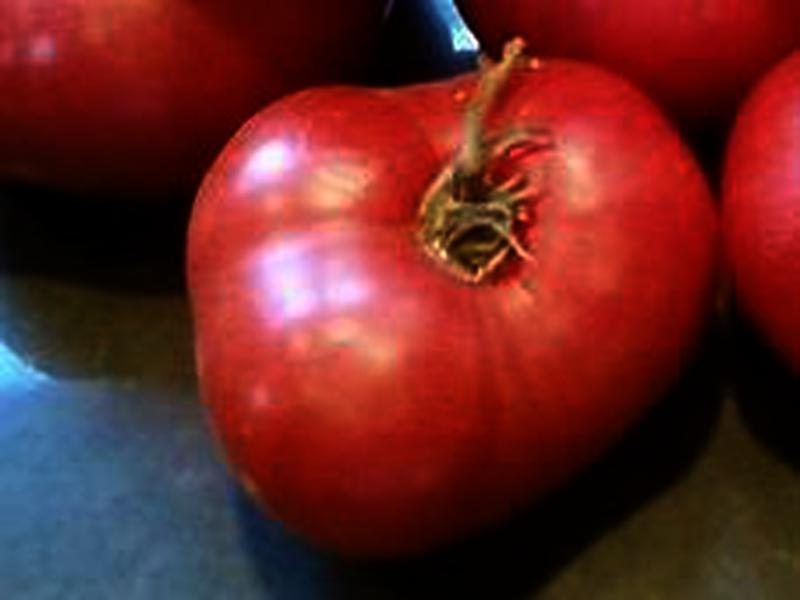Tomato: (184, 58, 715, 557)
